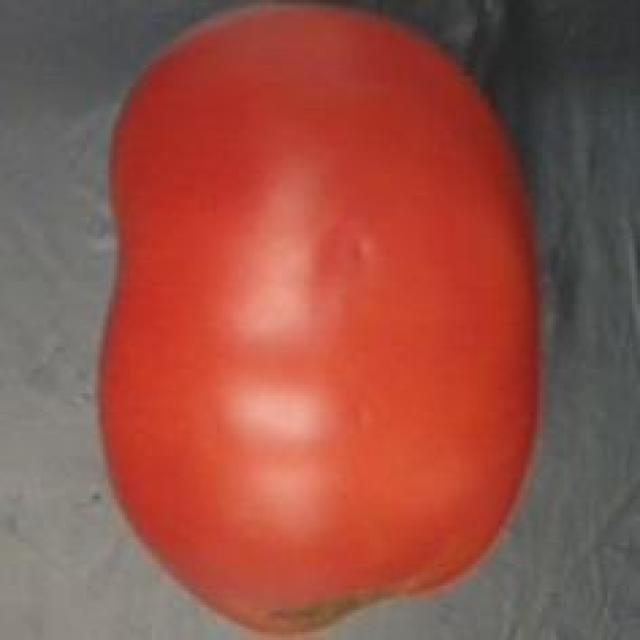ripe tomato: (89, 2, 555, 640)
